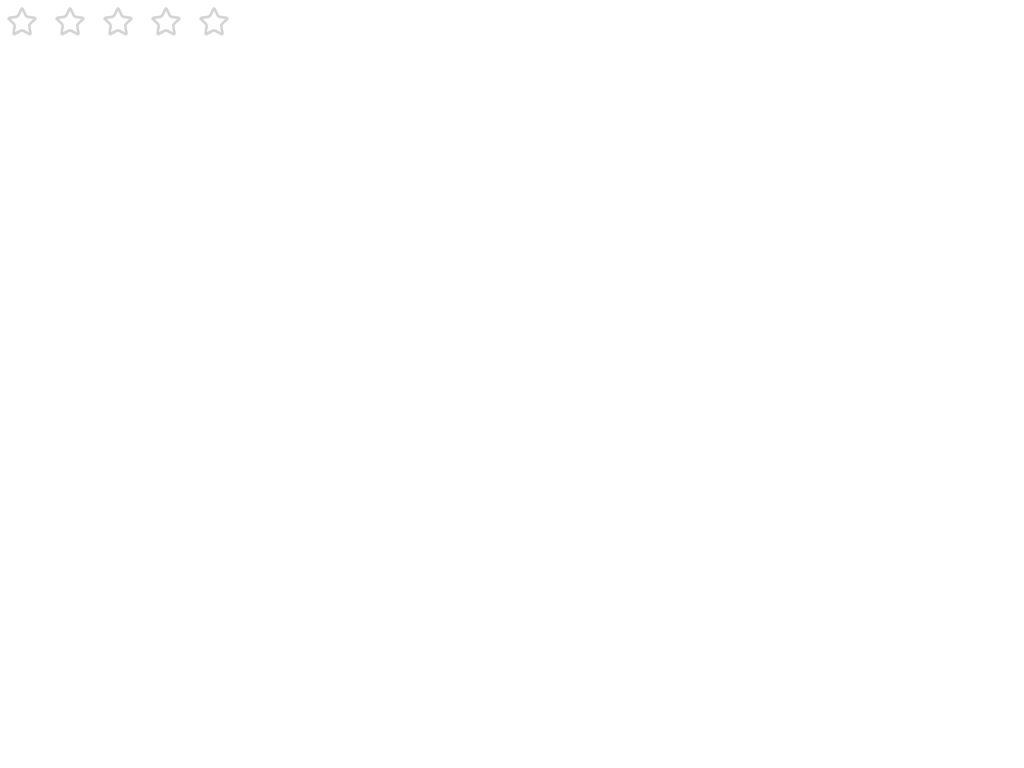
Scenario: RateThisTea › signed in opens the rating form with the tapped star set, and closes once logged
Step 1. Click the button named "Rate 4 stars" → coordinates (166, 22), box [144,0,188,44]
(page scrolled)
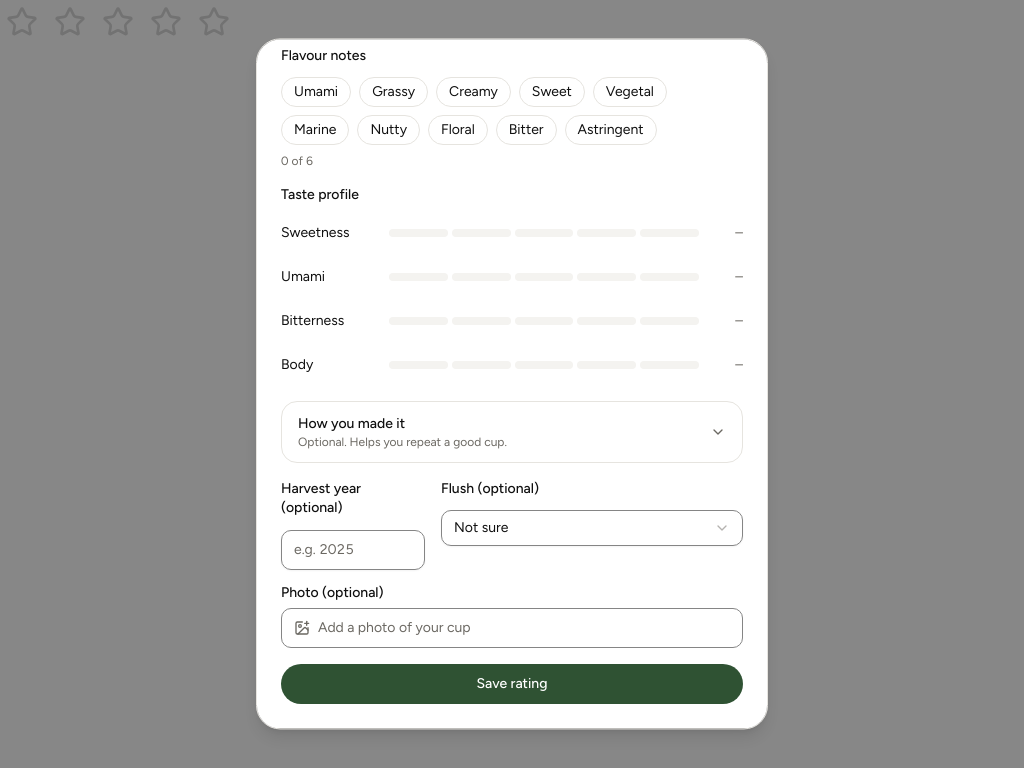
Step 2. Click the button "Save rating" → coordinates (512, 684), box [281,664,743,704]
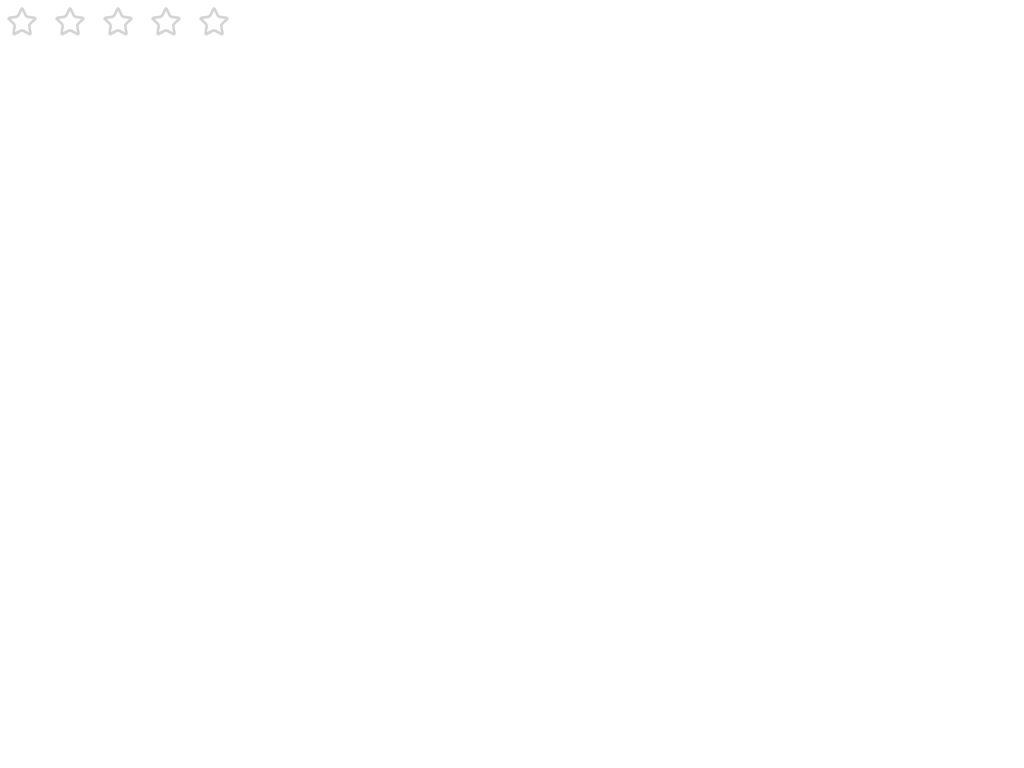
Now the dialog is gone
